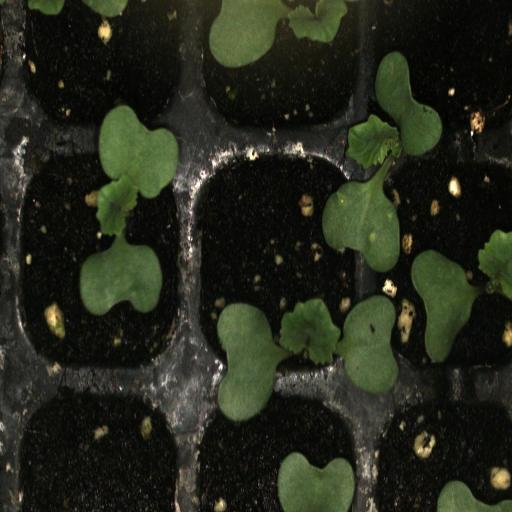seedling: (4, 144, 192, 382), (187, 144, 368, 385), (369, 161, 512, 386), (366, 0, 512, 165), (193, 0, 367, 136)
